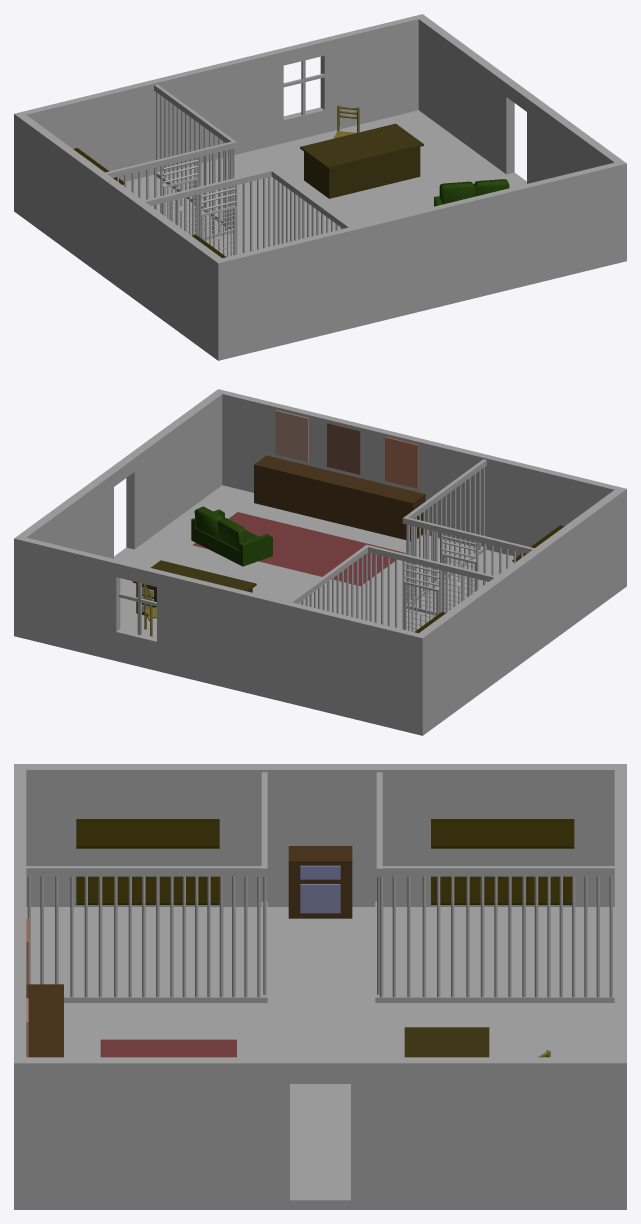
File: all.fbx
3 renders of one model, top to bottom at view 1: azimuth 30°, elevation 25°; view 2: azimuth 150°, elevation 25°; view 3: azimuth 270°, elevation 25°, orthographic. The views are drawn at different scales.
Visible parts, largest first — view 1: Pièce, pCube22, MSH_Sofa_Soviet, pCube8, pCube4, pCube9, pCube5; view 2: Pièce, pCube32, pPlane1, MSH_Sofa_Soviet, pCube33, pCube34, pCube35, pCube22, pCube4, pCube8, pCube5, pCube9; view 3: Pièce, pCube20, pCube19, pCube18, pCube21, pCube29, pCube22, pCube32, pPlane1, pCube5, pCube9, pCube6 (+5 smaller).
Boxes of the visible parts, <box> form: Pièce: <box>14,14,626,360</box>; pCube22: <box>300,123,423,198</box>; MSH_Sofa_Soviet: <box>434,179,509,206</box>; pCube8: <box>105,141,236,177</box>; pCube4: <box>143,169,274,205</box>; pCube9: <box>154,84,236,142</box>; pCube5: <box>271,170,351,228</box>; Pièce: <box>14,389,626,735</box>; pCube32: <box>254,455,425,541</box>; pPlane1: <box>192,512,405,586</box>; MSH_Sofa_Soviet: <box>191,506,272,566</box>; pCube33: <box>327,422,360,474</box>; pCube34: <box>385,437,418,488</box>; pCube35: <box>275,410,308,461</box>; pCube22: <box>132,560,256,616</box>; pCube4: <box>402,516,534,553</box>; pCube8: <box>365,544,495,581</box>; pCube5: <box>405,459,486,518</box>; pCube9: <box>289,545,369,603</box>; Pièce: <box>14,764,626,1209</box>; pCube20: <box>431,819,574,848</box>; pCube19: <box>76,819,219,848</box>; pCube18: <box>76,876,219,904</box>; pCube21: <box>431,876,571,904</box>; pCube29: <box>288,846,352,918</box>; pCube22: <box>404,1027,489,1057</box>; pCube32: <box>28,984,63,1057</box>; pPlane1: <box>100,1039,236,1057</box>; pCube5: <box>26,866,262,876</box>; pCube9: <box>382,866,614,876</box>; pCube6: <box>379,995,614,1002</box>.
Bounding box in the file's own units: 28.61 × 6.53 × 24.76.
